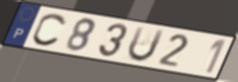1: (203, 38, 228, 75)
2: (155, 33, 191, 69)
3: (96, 23, 128, 59)
8: (64, 17, 97, 53)
C: (31, 12, 69, 48)
U: (126, 25, 167, 63)
